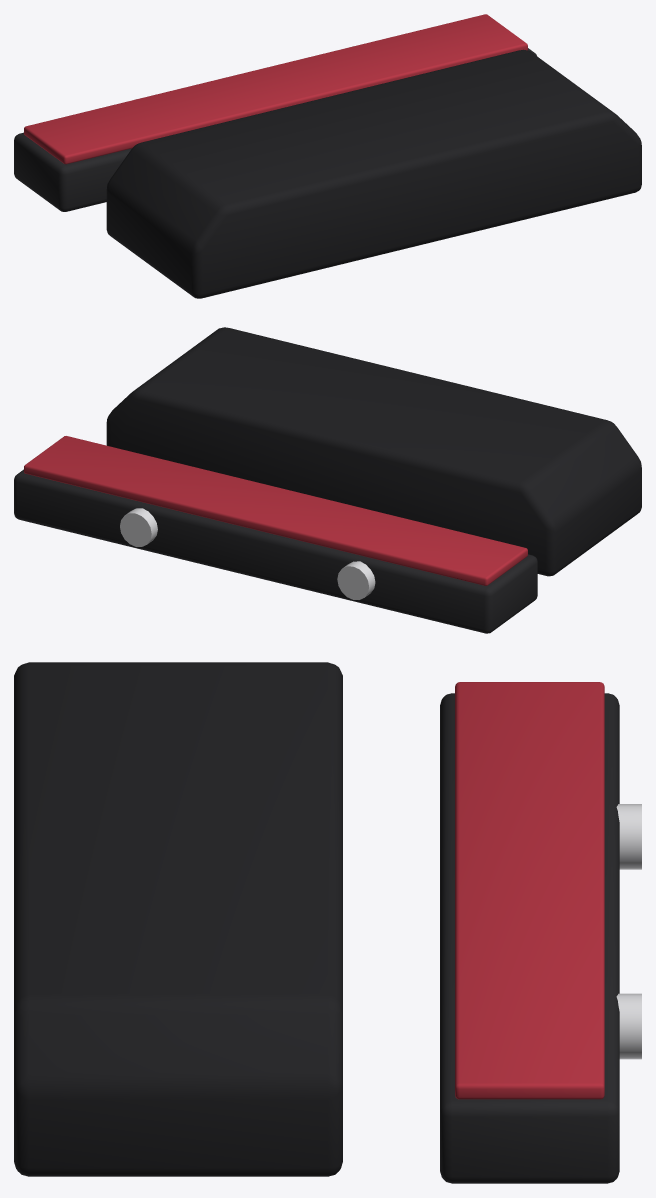
File: model_black.glb
3 renders of one model, top to bottom at view 1: azimuth 30°, elevation 25°; view 2: azimuth 150°, elevation 25°; view 3: azimuth 270°, elevation 25°, orthographic. The views are drawn at different scales.
Parts seen in each view (by area): view 1: piano_black; view 2: piano_black; view 3: piano_black.
Boxes of the visible parts, <box> form: piano_black: <box>14,14,641,298</box>; piano_black: <box>14,327,641,633</box>; piano_black: <box>14,662,641,1183</box>.
Bounding box in the file's own units: 0.66 × 0.115 × 0.42.
